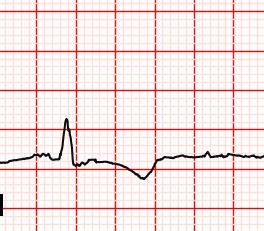T inversion: (111, 153, 162, 183)
